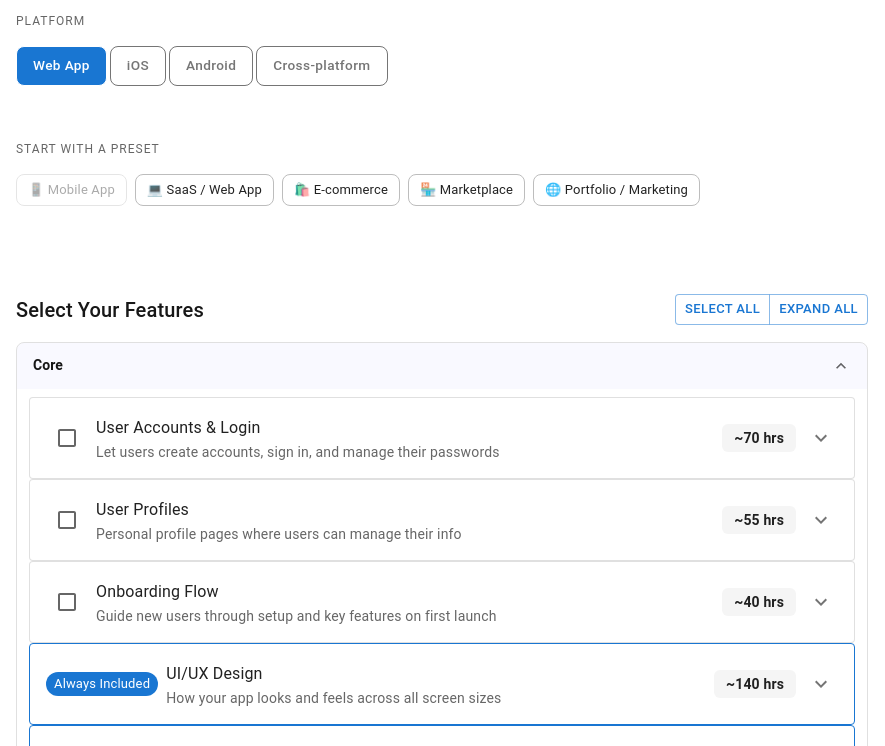
Test: CostEstimator › handleExpandAll / handleCollapseAll › clicking 'Expand All' switches button to 'Collapse All'
The image size is (885, 746).
Click the button "Expand All" at (819, 310), box [769,294,868,325]
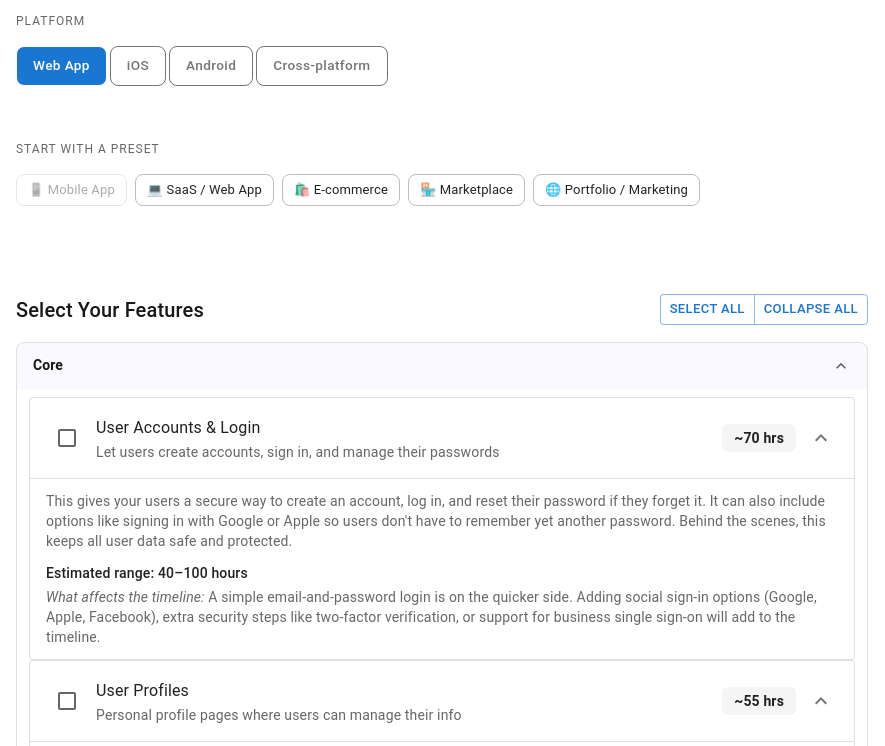
expect the button "Collapse All" is shown: met, box [754,294,868,325]
